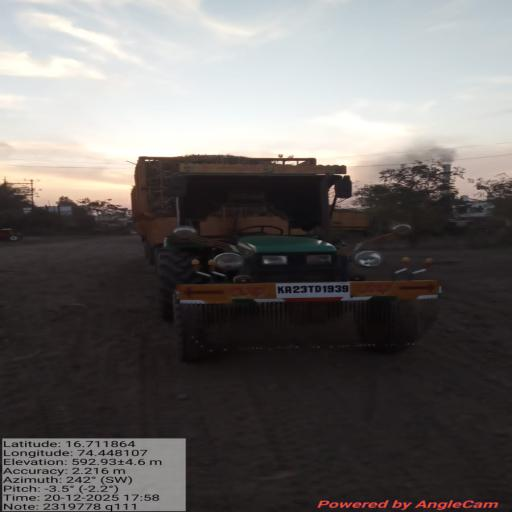number_plate: (268, 272, 374, 307)
